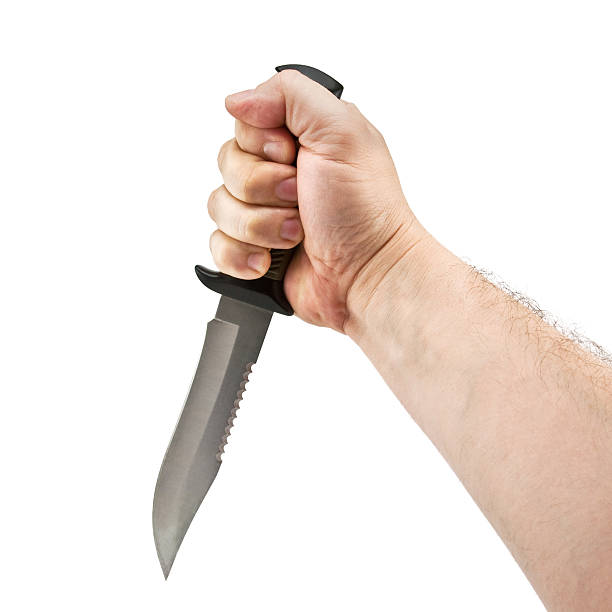knife: (151, 63, 345, 582)
